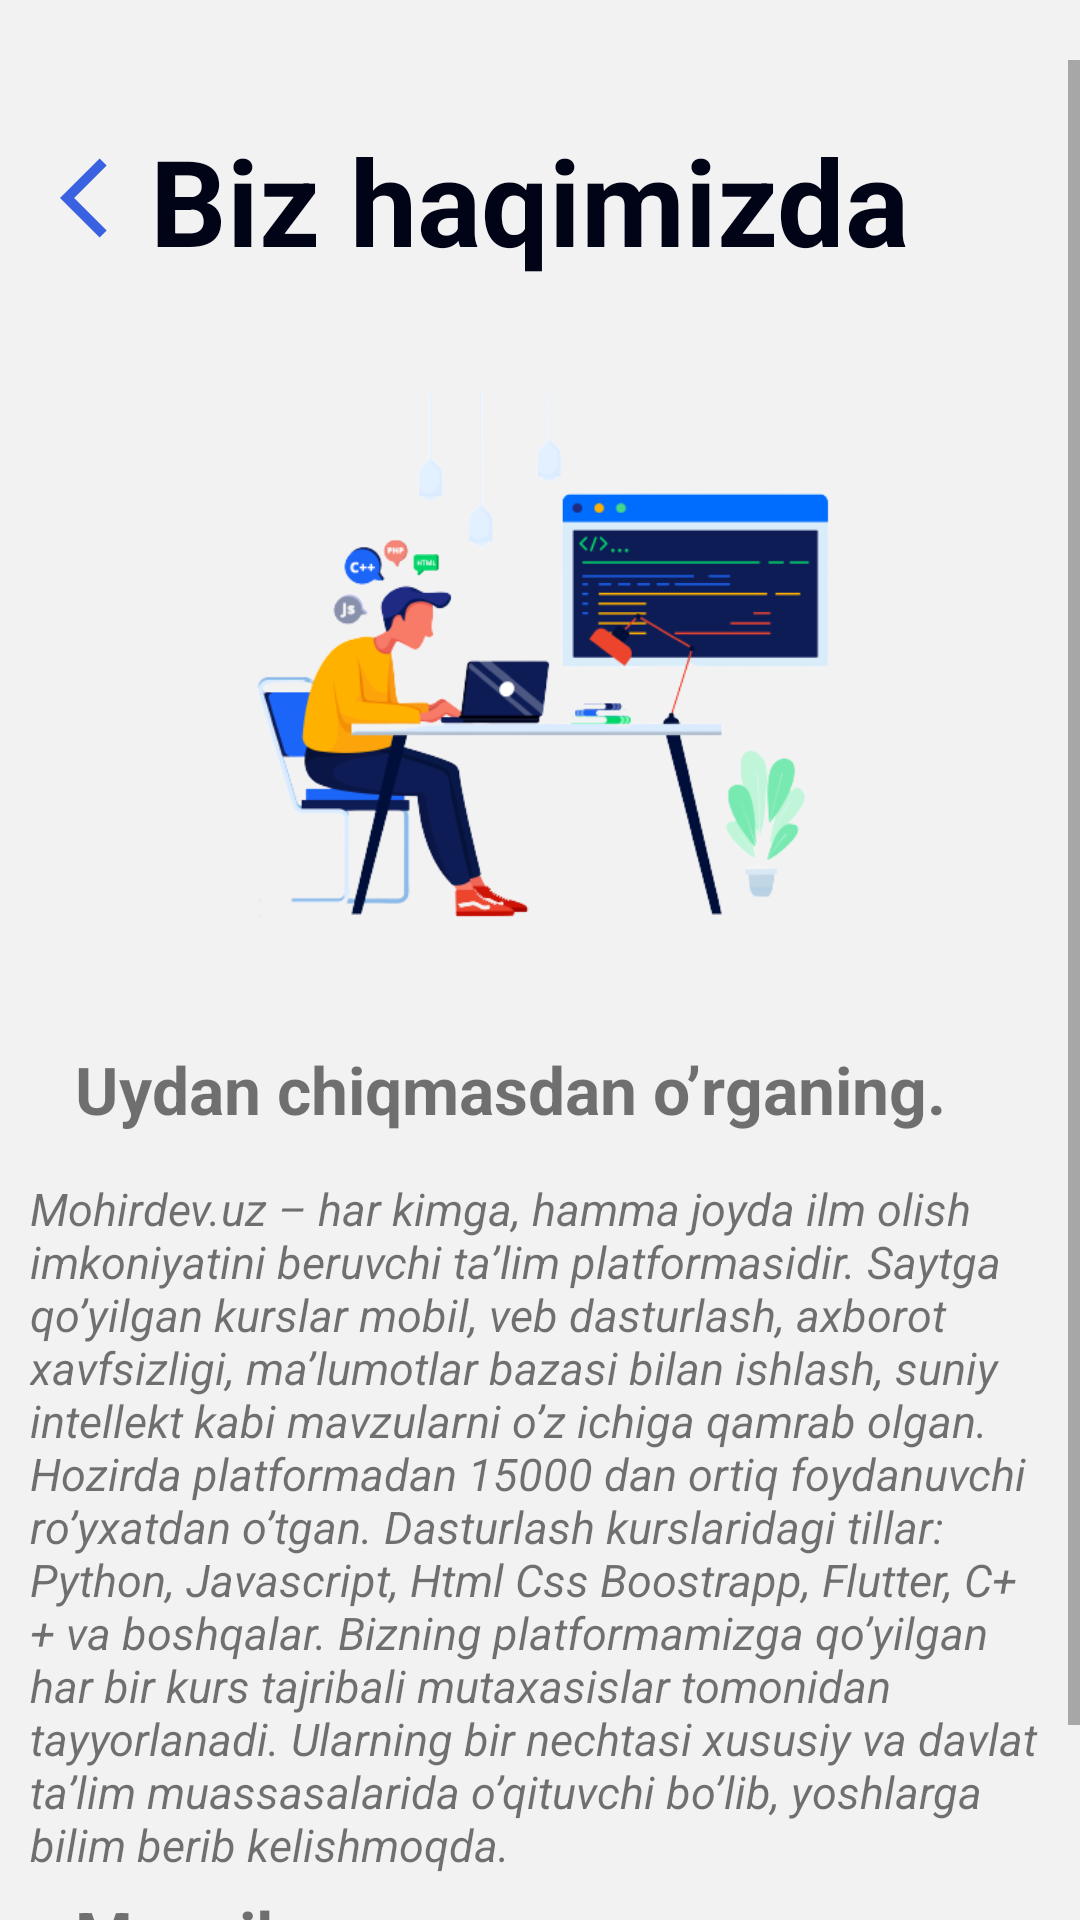

Named icons in this screenshot (1080w x 1920h) and their centers, point (x, y):
arrow back: point (83, 198)
